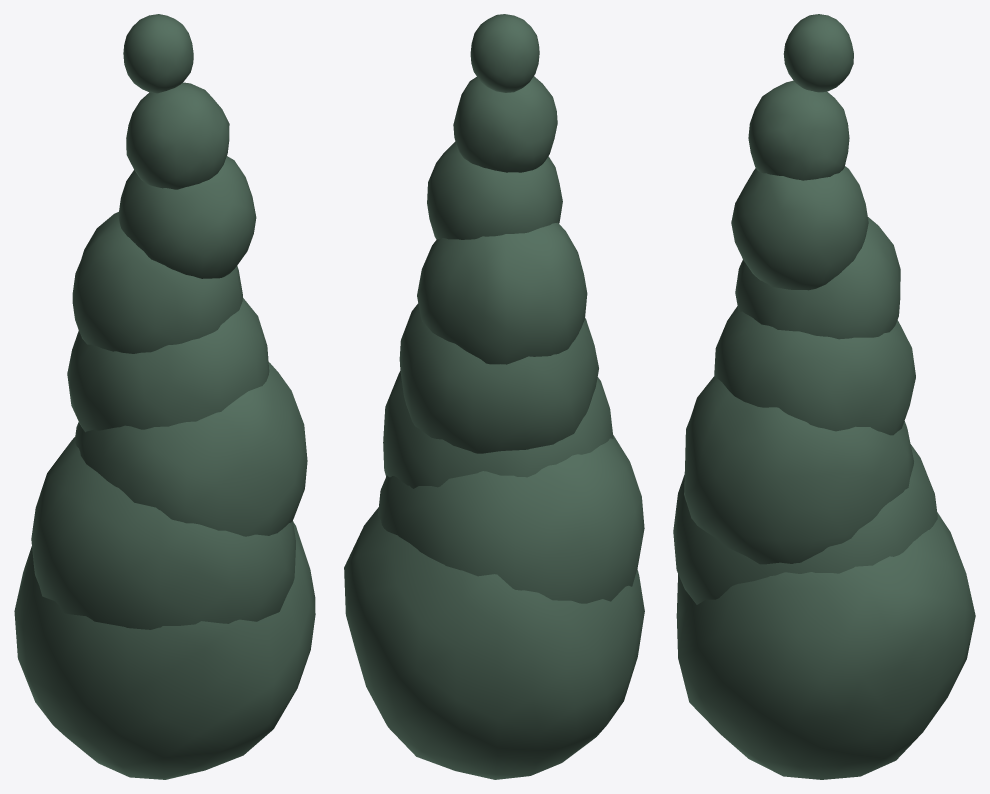
File: NPR_07_0501__MOD__VegetationElements__Conifers__EnglishYew__Var-01__.glb
3 renders of one model, left to right at view 1: azimuth 30°, elevation 25°; view 2: azimuth 150°, elevation 25°; view 3: azimuth 270°, elevation 25°, orthographic.
Parts seen in each view (by area): view 1: NPR_07_0501__MOD__VegetationElements__Conifers__EnglishYew__; view 2: NPR_07_0501__MOD__VegetationElements__Conifers__EnglishYew__; view 3: NPR_07_0501__MOD__VegetationElements__Conifers__EnglishYew__.
Boxes of the visible parts, x1,y1,x2,y2 form: NPR_07_0501__MOD__VegetationElements__Conifers__EnglishYew__: (14, 14, 315, 779); NPR_07_0501__MOD__VegetationElements__Conifers__EnglishYew__: (344, 14, 644, 779); NPR_07_0501__MOD__VegetationElements__Conifers__EnglishYew__: (673, 14, 975, 779).
Size of the model in its own units: 2.73 by 7.5 by 2.75.
